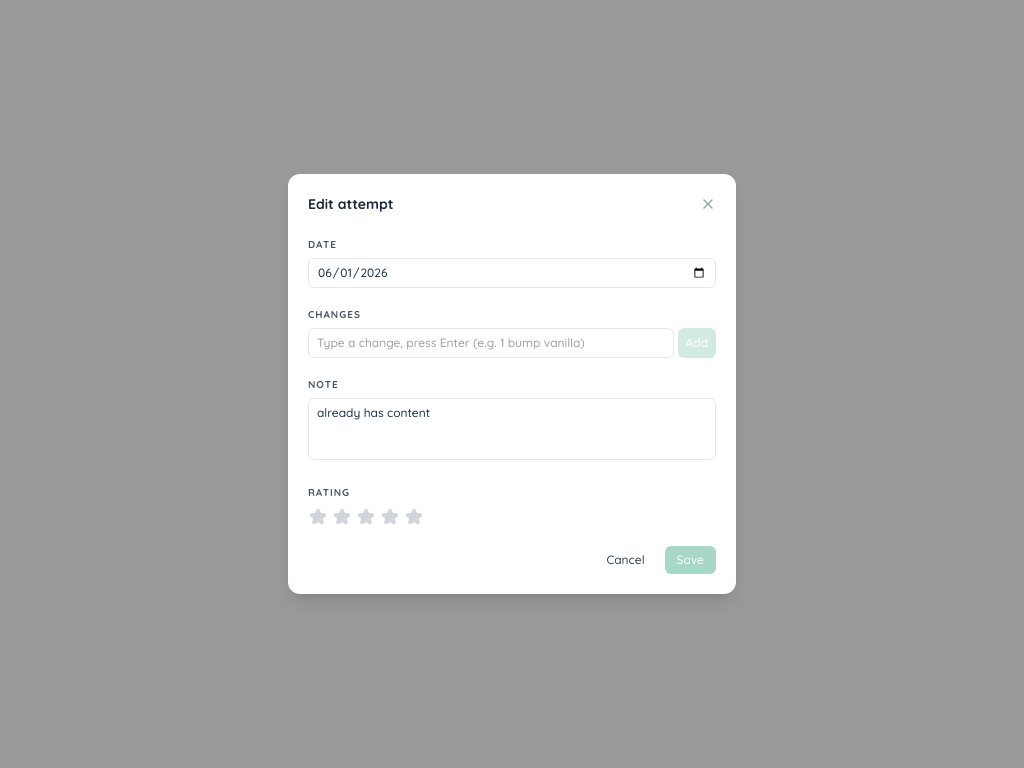
Test: EditAttemptModal › disables save while the date is cleared
Step 1. Clear the date field labelled "Date" → (512, 273), box top-left (308, 258), bottom-right (716, 288)
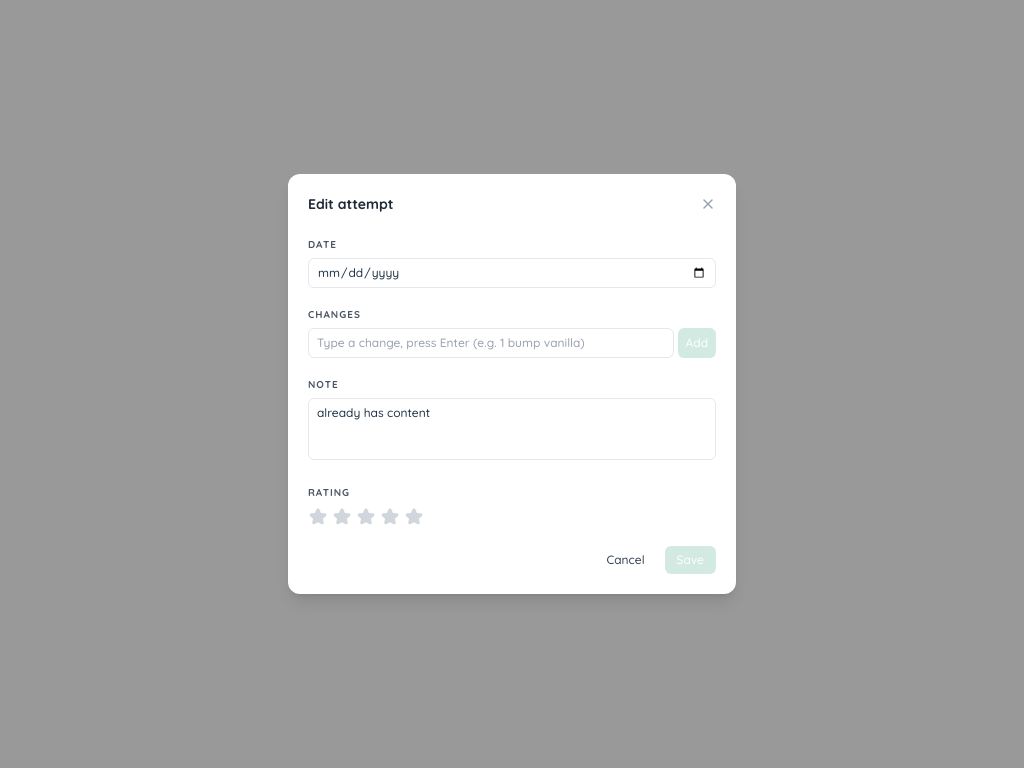
Result: the button "Save" is disabled at top-left (665, 546), bottom-right (716, 574)
